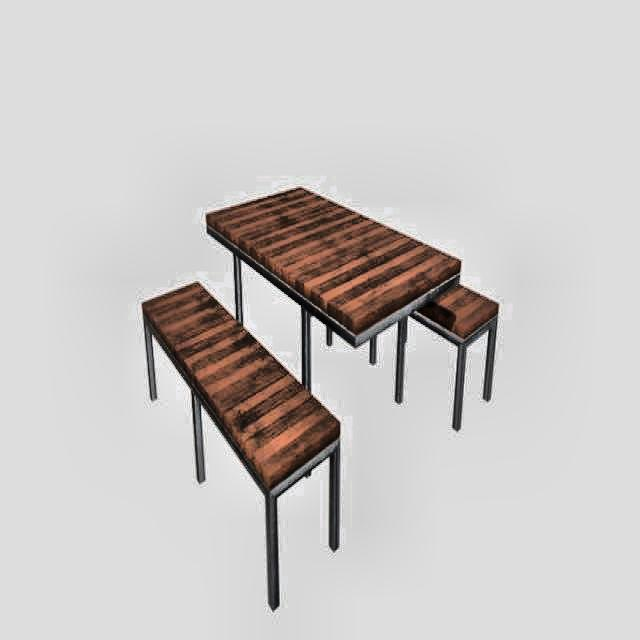cadeira: (142, 279, 344, 612), (273, 200, 507, 427)
mesa: (206, 180, 464, 404)
